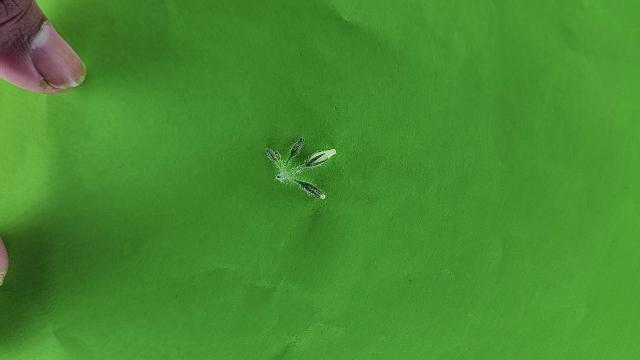Flower Bud: (302, 148, 337, 168), (294, 180, 326, 199), (291, 137, 304, 154), (265, 148, 276, 160)
